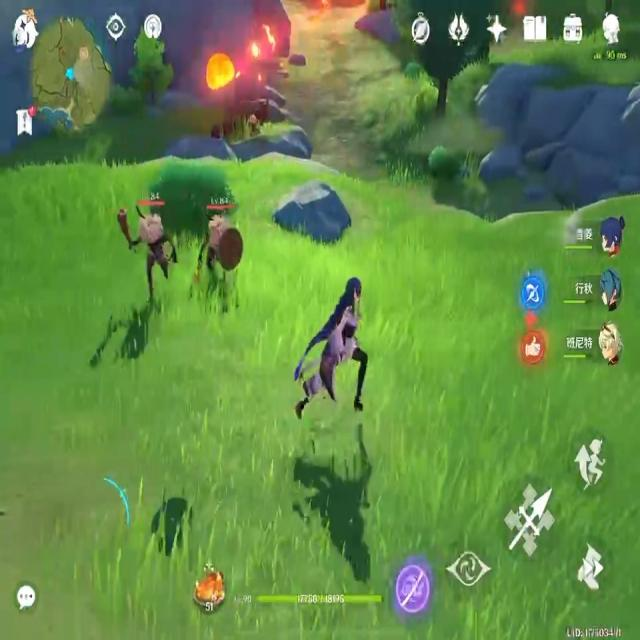genshin-hilichurls: (118, 199, 174, 292), (197, 209, 242, 289)
